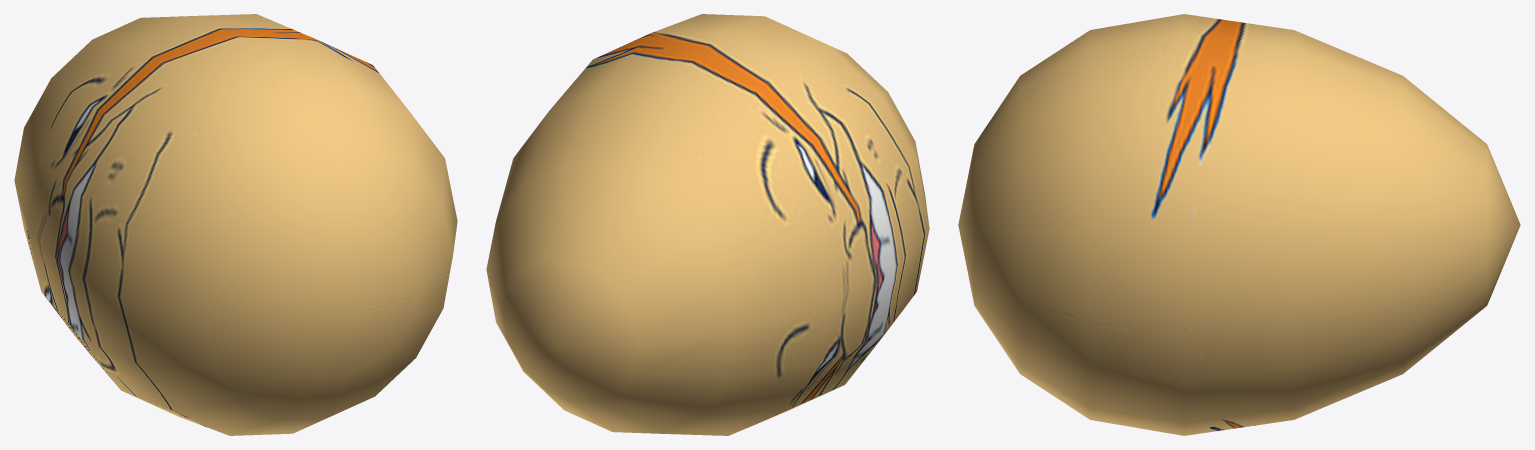
The model's file is AggmenCollision.fbx.
3 views of the same model, side by side, from view 1: azimuth 30°, elevation 25°; view 2: azimuth 150°, elevation 25°; view 3: azimuth 270°, elevation 25° (orthographic). The views are drawn at different scales.
Parts seen in each view (by area): view 1: AggmenCollision; view 2: AggmenCollision; view 3: AggmenCollision.
Part boxes in pixels (x1,y1,x2,y2): AggmenCollision: [14, 14, 457, 435]; AggmenCollision: [486, 14, 929, 435]; AggmenCollision: [958, 14, 1520, 435].
Size of the model in its own units: 120 by 120 by 160.
